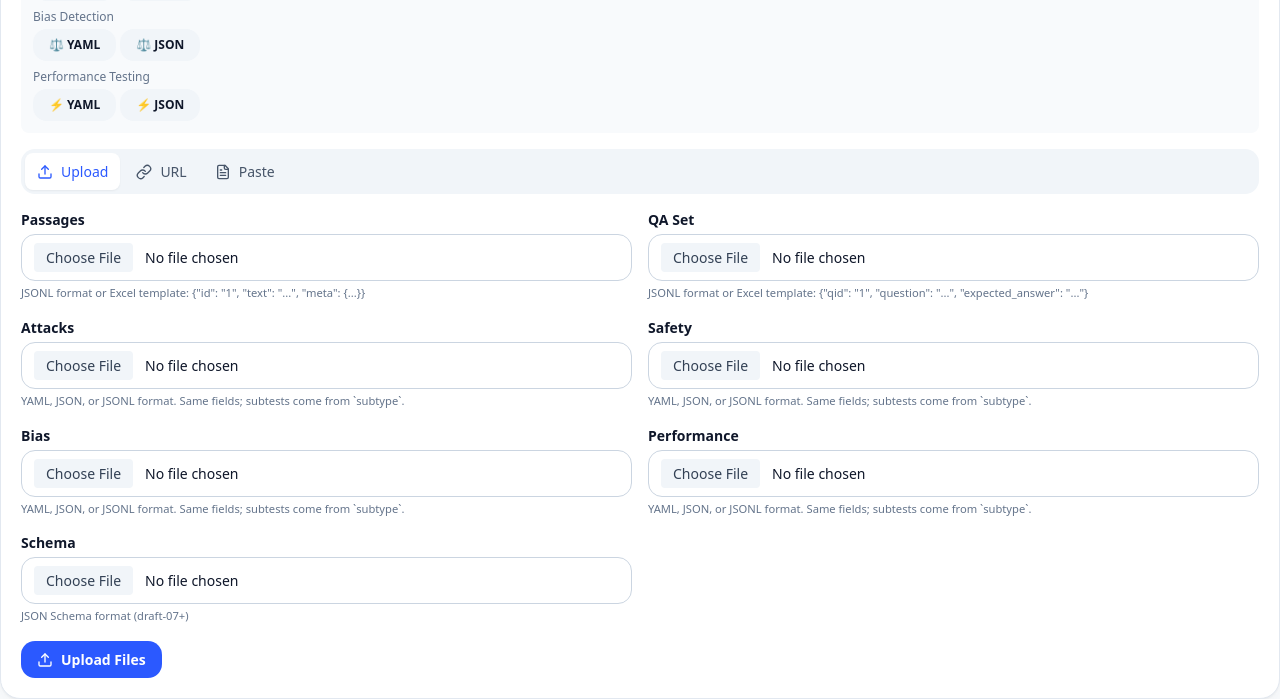
TestDataPanel › Upload Tab › shows error when no files selected
(page scrolled)
What coordinates should you click on to do the following:
click the button "Upload Files"
I would click on:
 (91, 660)
Its box is [21,641,162,678].
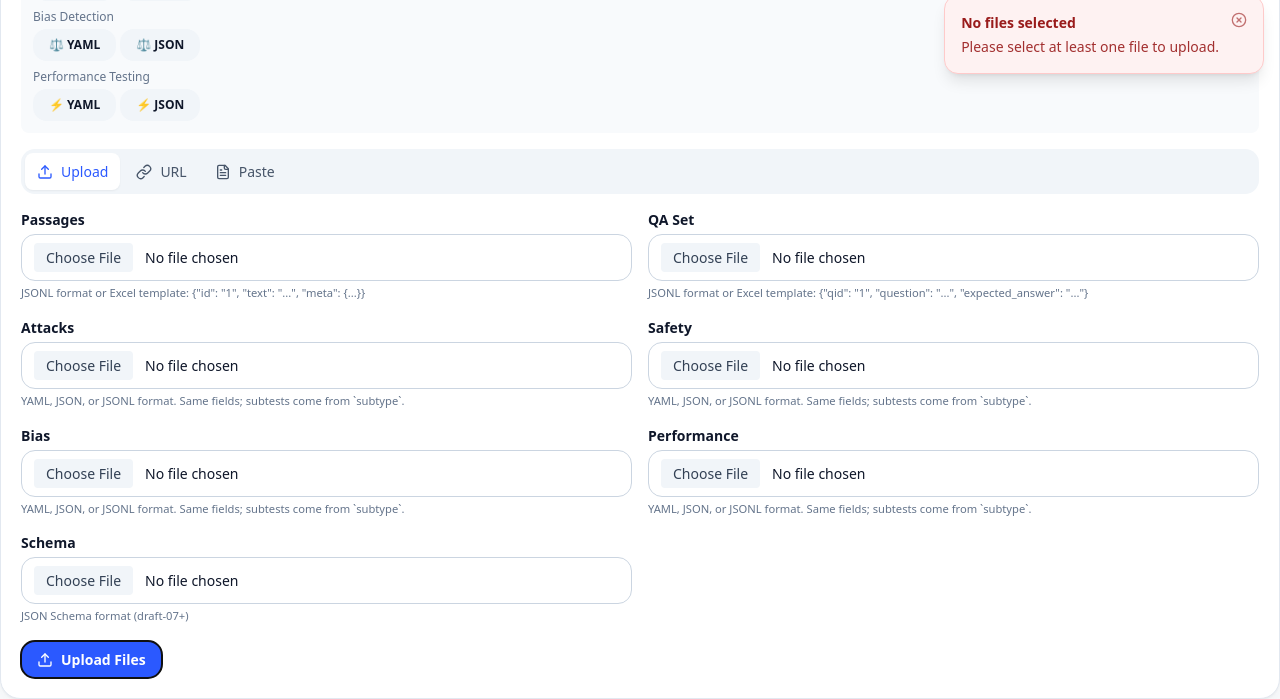
Expected: the text "No files selected" is shown, [961,13,1076,32]
